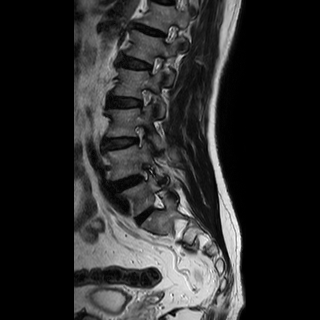LFS0: (126, 119, 153, 153), (140, 49, 167, 82), (131, 85, 156, 116)
